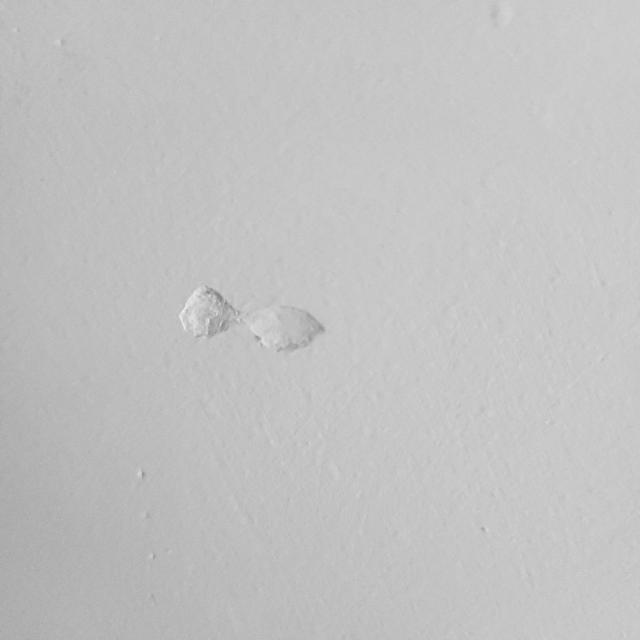rough and patchy surface: (248, 403, 532, 562), (391, 247, 602, 388), (81, 443, 218, 618), (150, 248, 329, 378)
